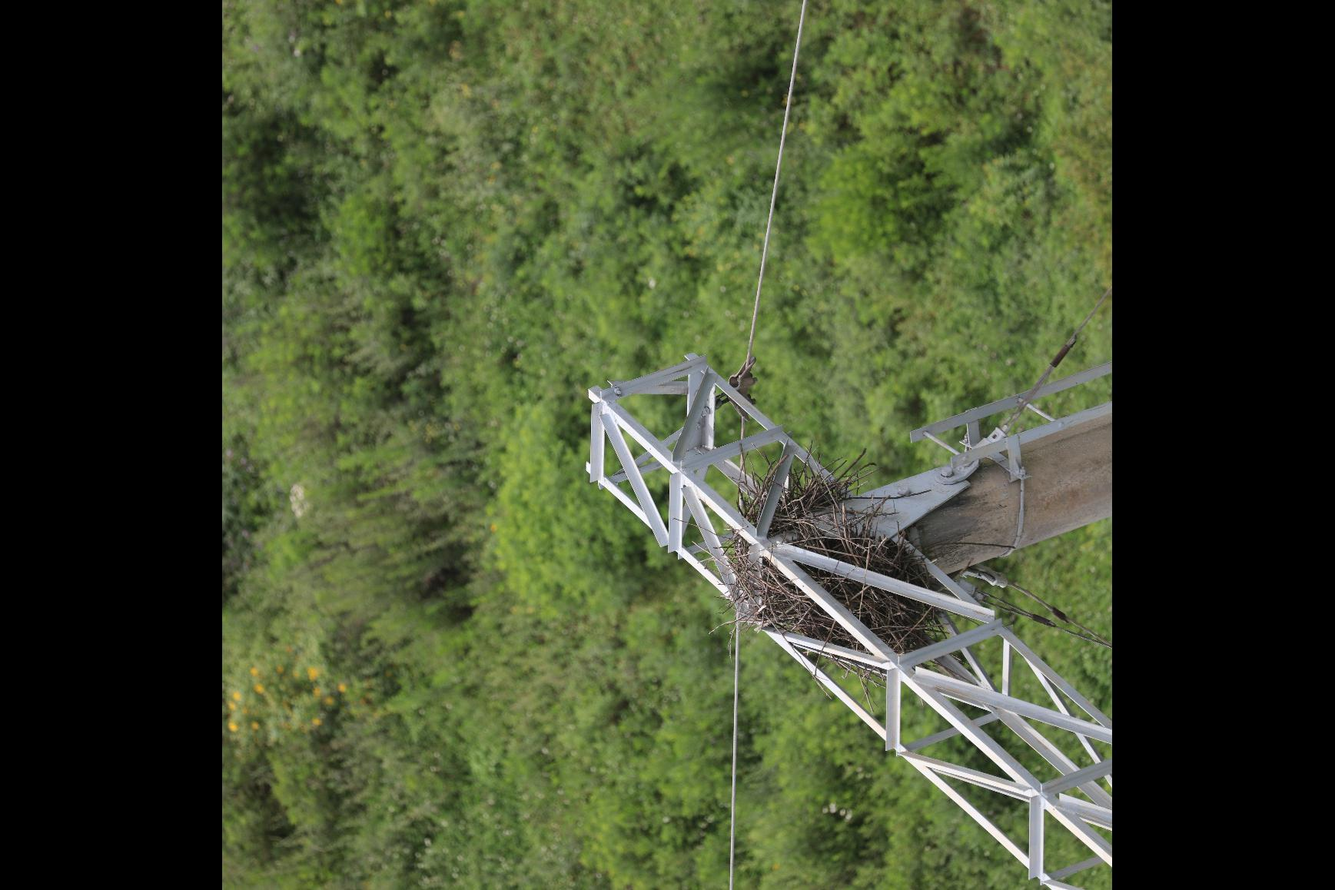nest: (720, 448, 942, 658)
